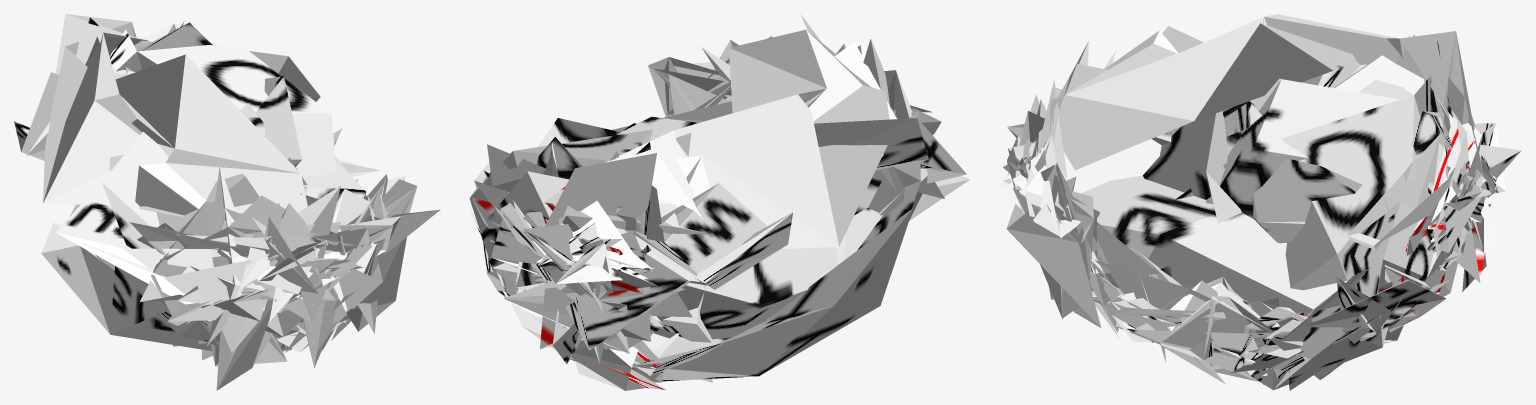
File: paperball5.fbx
3 views of the same model, side by side, from view 1: azimuth 30°, elevation 25°; view 2: azimuth 150°, elevation 25°; view 3: azimuth 270°, elevation 25° (orthographic). The views are drawn at different scales.
Parts seen in each view (by area): view 1: Plane; view 2: Plane; view 3: Plane.
Boxes of the visible parts, box(x1,y1,x2,y2) form: Plane: box(14, 14, 440, 390); Plane: box(469, 15, 969, 390); Plane: box(999, 14, 1521, 390).
Size of the model in its own units: 40.2 by 31 by 44.34.
Materials: 1 (1 with a texture image).
